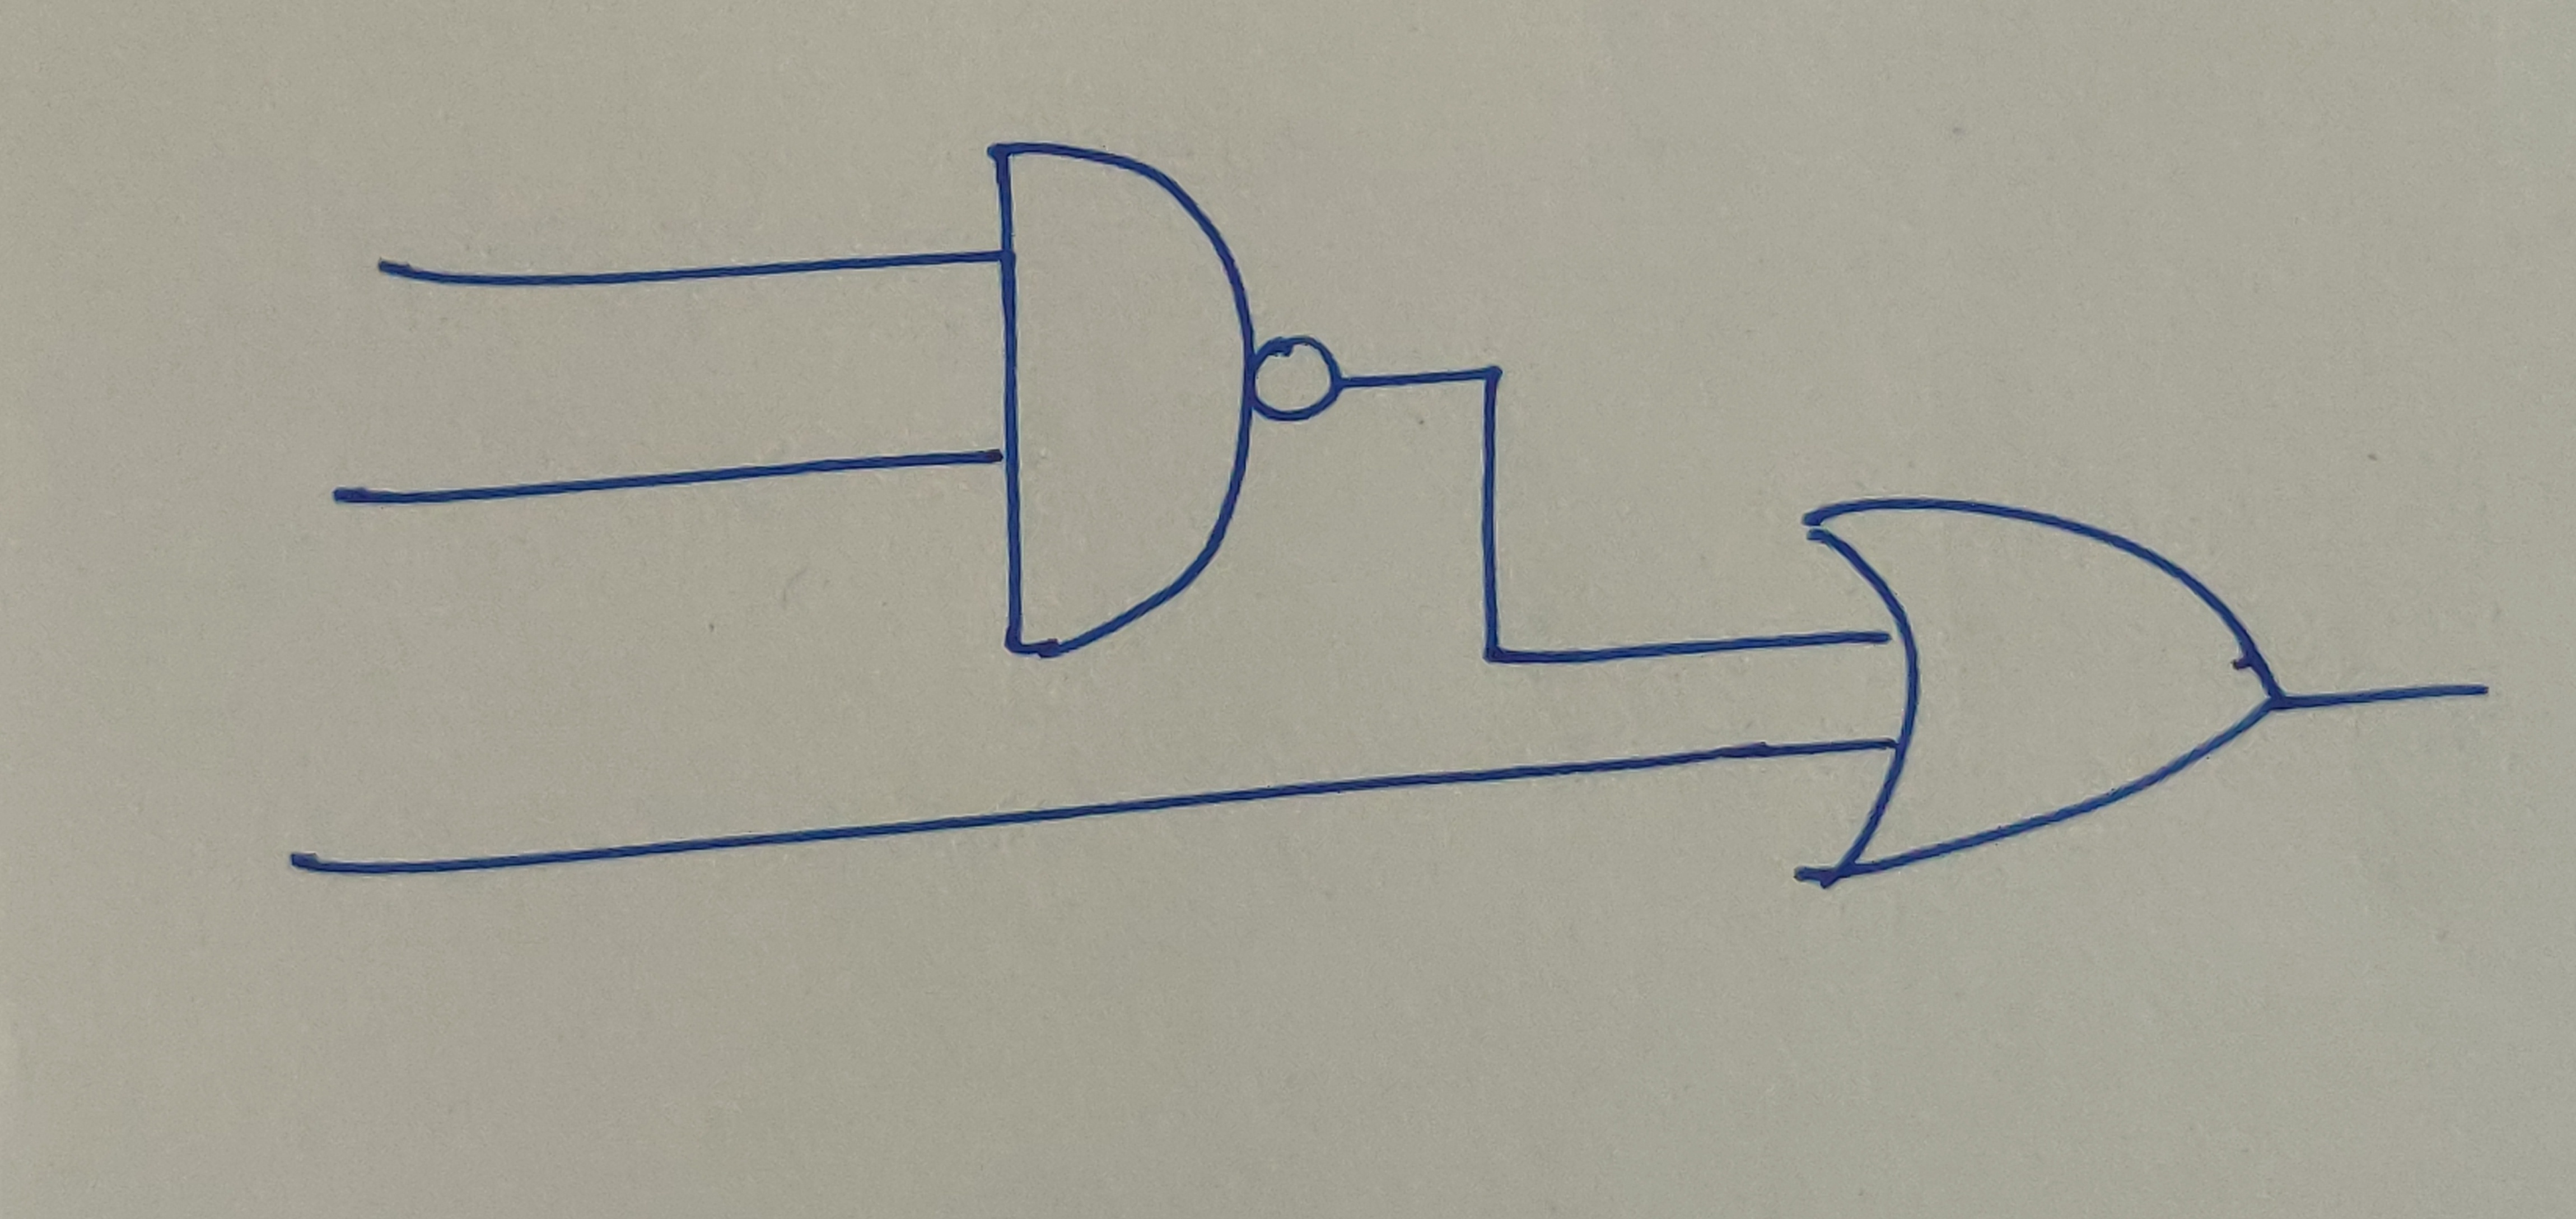and: (984, 135, 1265, 655)
not: (1252, 330, 1347, 429)
or: (1789, 491, 2288, 882)
